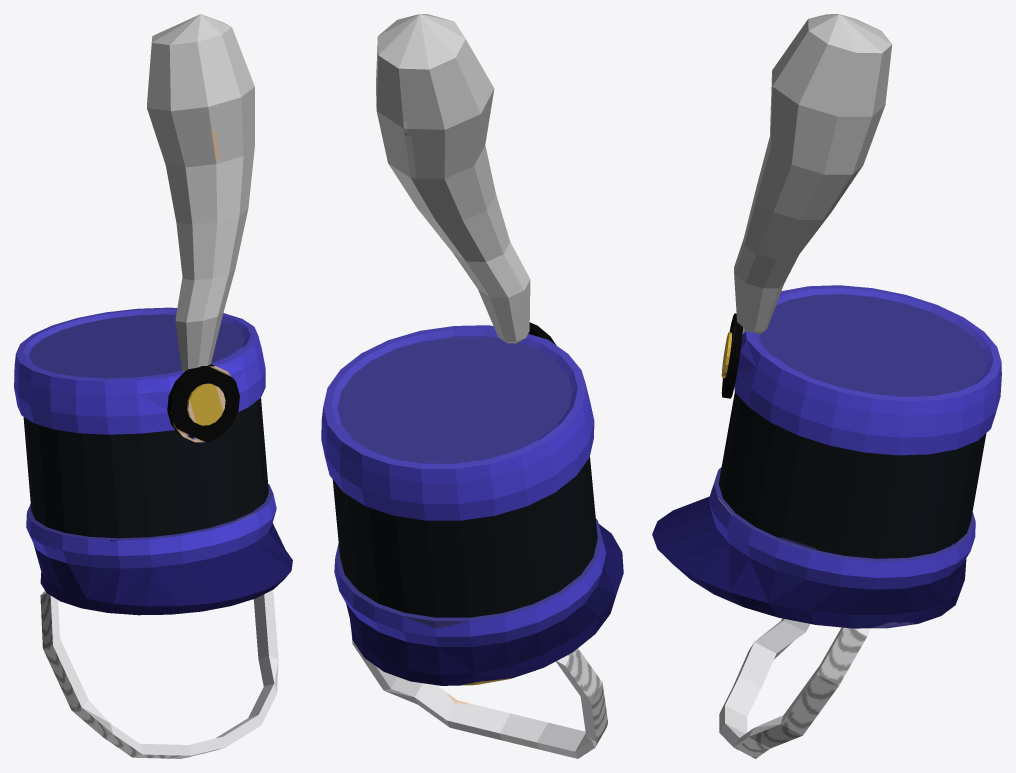
File: playerHat.obj
3 renders of one model, left to right at view 1: azimuth 30°, elevation 25°; view 2: azimuth 150°, elevation 25°; view 3: azimuth 270°, elevation 25°, orthographic. The views are drawn at different scales.
Visible parts, largest first — view 1: testShako; view 2: testShako; view 3: testShako.
Part boxes in pixels (x1,y1,x2,y2): testShako: (14, 14, 292, 758); testShako: (321, 14, 623, 758); testShako: (652, 14, 1001, 758).
Size of the model in its own units: 0.6406 by 1.93 by 0.821.
